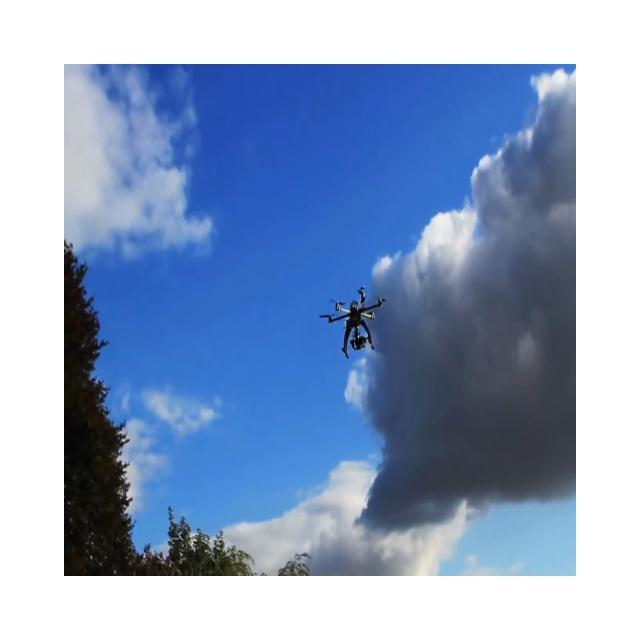drone: (319, 285, 386, 359)
